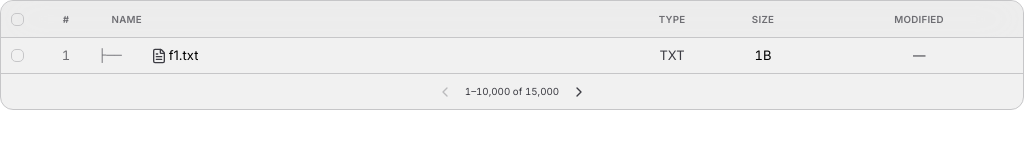
Test: ArchiveTree › should_page_chunks_in_place_without_accumulating
The width and height of the screenshot is (1024, 160).
Expected: the text "1–10,000 of 15,000" is shown, left=462, top=85, right=562, bottom=98
Expected: the button named "Previous chunk" is disabled, left=433, top=79, right=458, bottom=104
Click the button named "Next chunk".
click(579, 92)  # box left=566, top=79, right=592, bottom=104
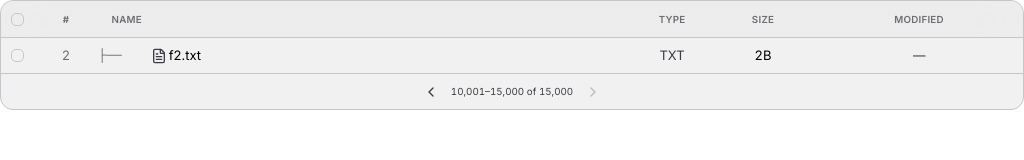
Result: the text "f1.txt" is gone
Result: the text "f2.txt" is shown at left=169, top=47, right=201, bottom=64
Result: the button named "Previous chunk" is enabled at left=419, top=79, right=444, bottom=104
